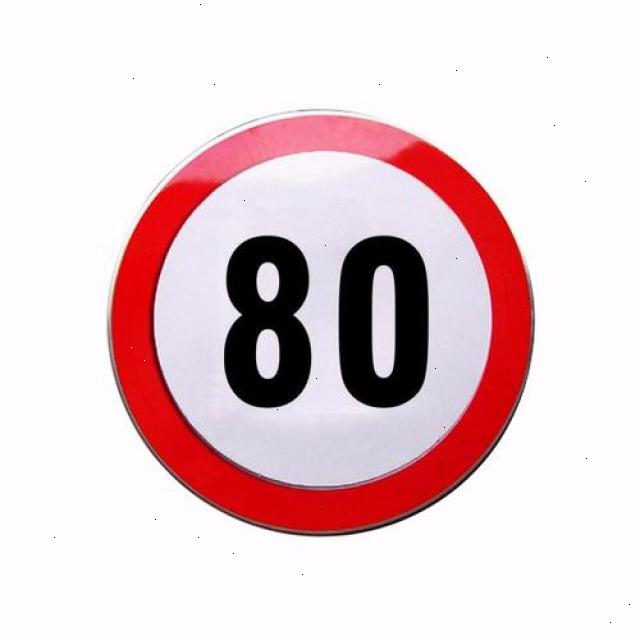speed limit 80: (109, 112, 536, 537)
